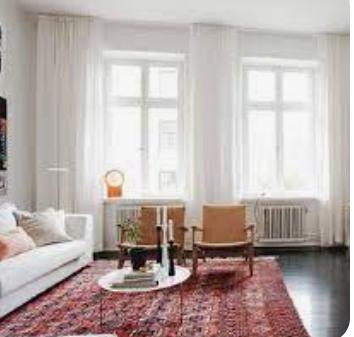carpet: (0, 257, 306, 337)
